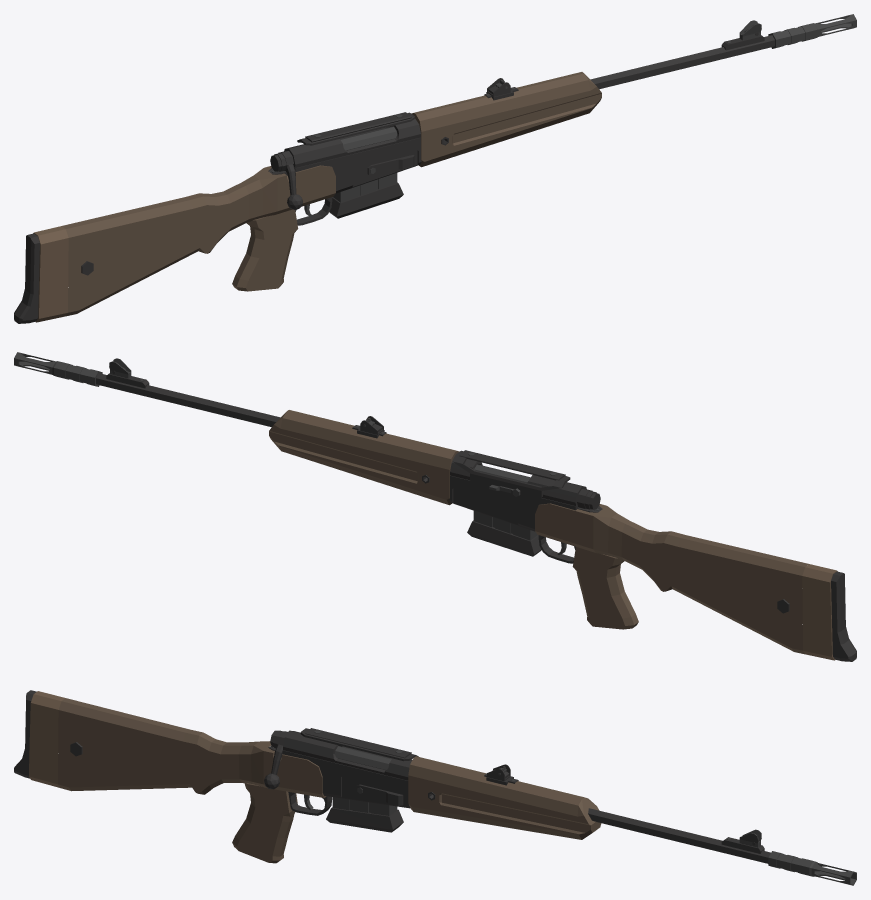
The model's file is frf1.glb.
The picture shows the model from 3 angles, top to bottom: view 1: azimuth 30°, elevation 25°; view 2: azimuth 150°, elevation 25°; view 3: azimuth 330°, elevation 25°; orthographic projection.
Parts seen in each view (by area): view 1: Cylinder.008_10, Cylinder.008_0, Cylinder.008_5, Cylinder.008_9; view 2: Cylinder.008_10, Cylinder.008_0, Cylinder.008_5, Cylinder.008_9; view 3: Cylinder.008_10, Cylinder.008_0, Cylinder.008_5, Cylinder.008_9.
Boxes of the visible parts, x1,y1,x2,y2 form: Cylinder.008_10: [62, 72, 601, 316]; Cylinder.008_0: [14, 25, 774, 323]; Cylinder.008_5: [271, 14, 856, 217]; Cylinder.008_9: [33, 226, 68, 322]; Cylinder.008_10: [269, 410, 808, 654]; Cylinder.008_0: [96, 363, 856, 661]; Cylinder.008_5: [14, 352, 599, 555]; Cylinder.008_9: [802, 564, 837, 660]; Cylinder.008_10: [58, 698, 601, 863]; Cylinder.008_0: [14, 690, 770, 863]; Cylinder.008_5: [272, 730, 856, 885]; Cylinder.008_9: [29, 691, 65, 787].
Size of the model in its own units: 1.14 by 0.1946 by 0.0608.
